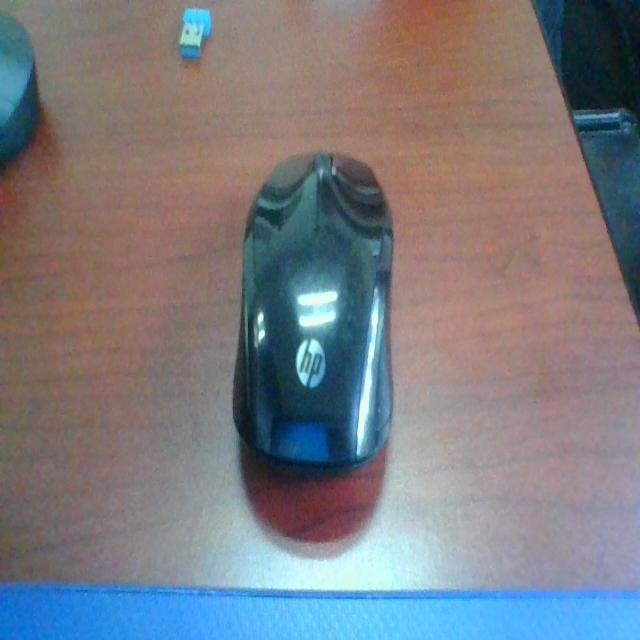mouse: (238, 151, 409, 501)
